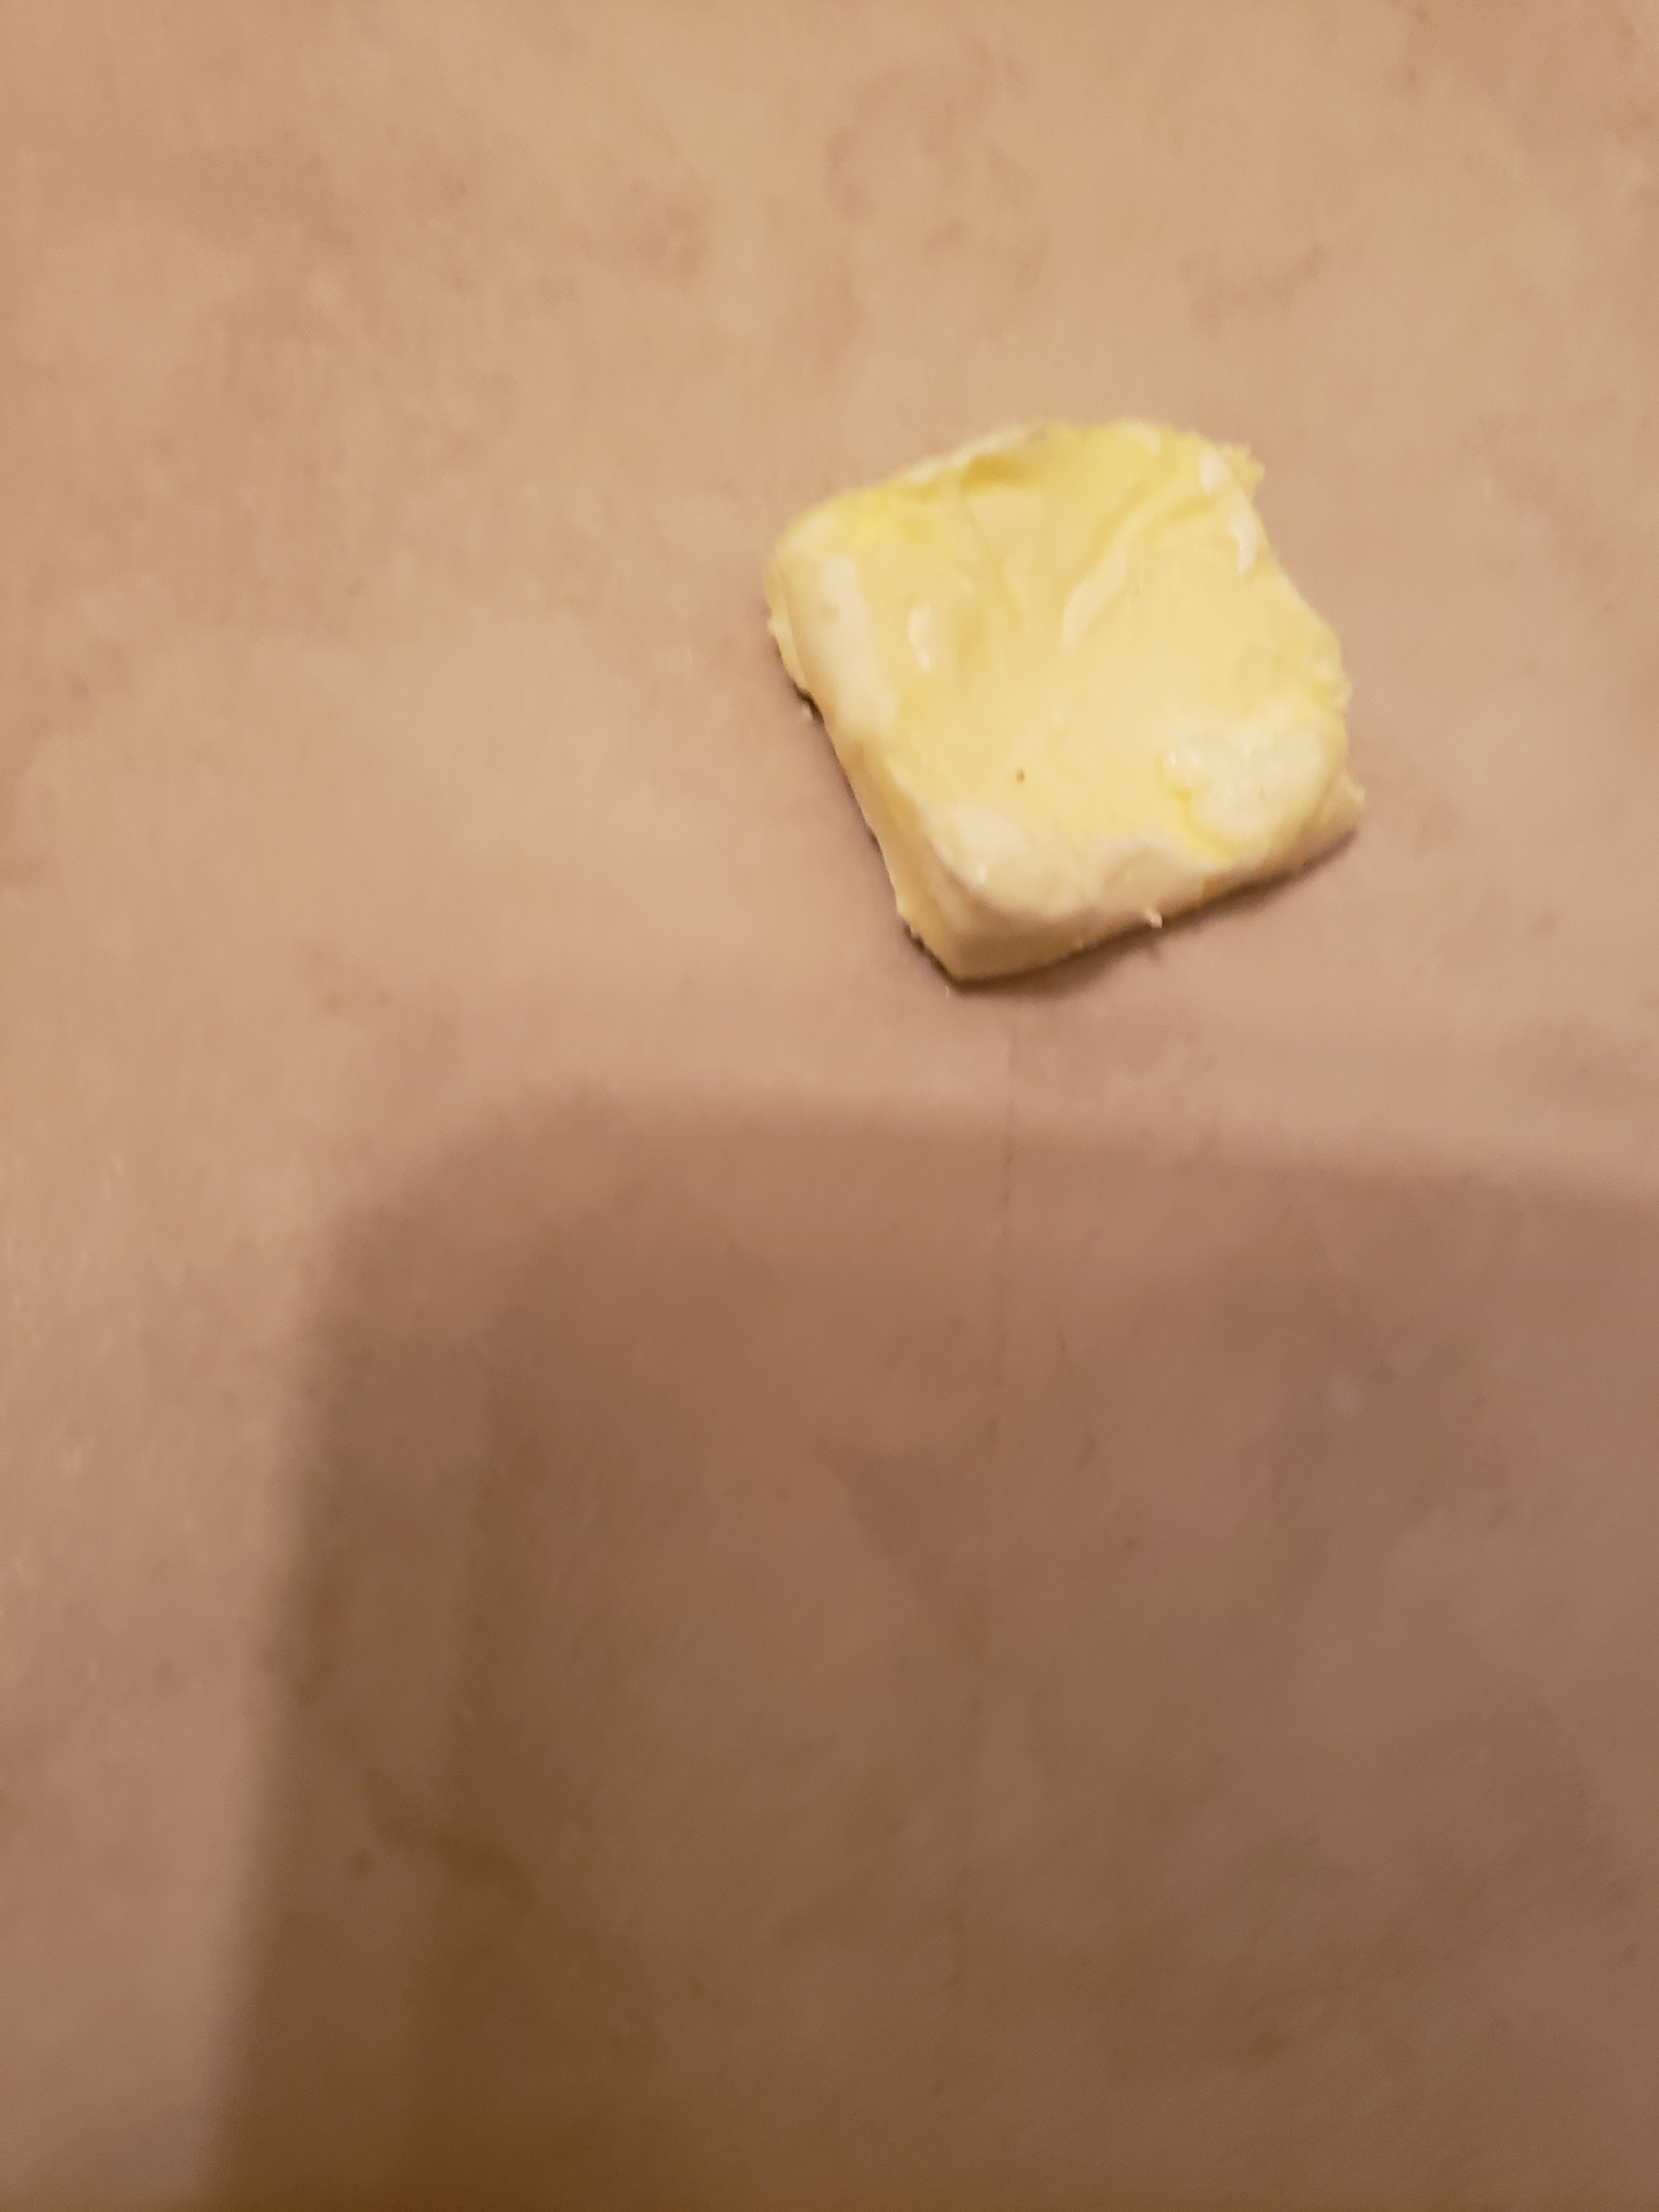Butter: (765, 423, 1366, 984)
